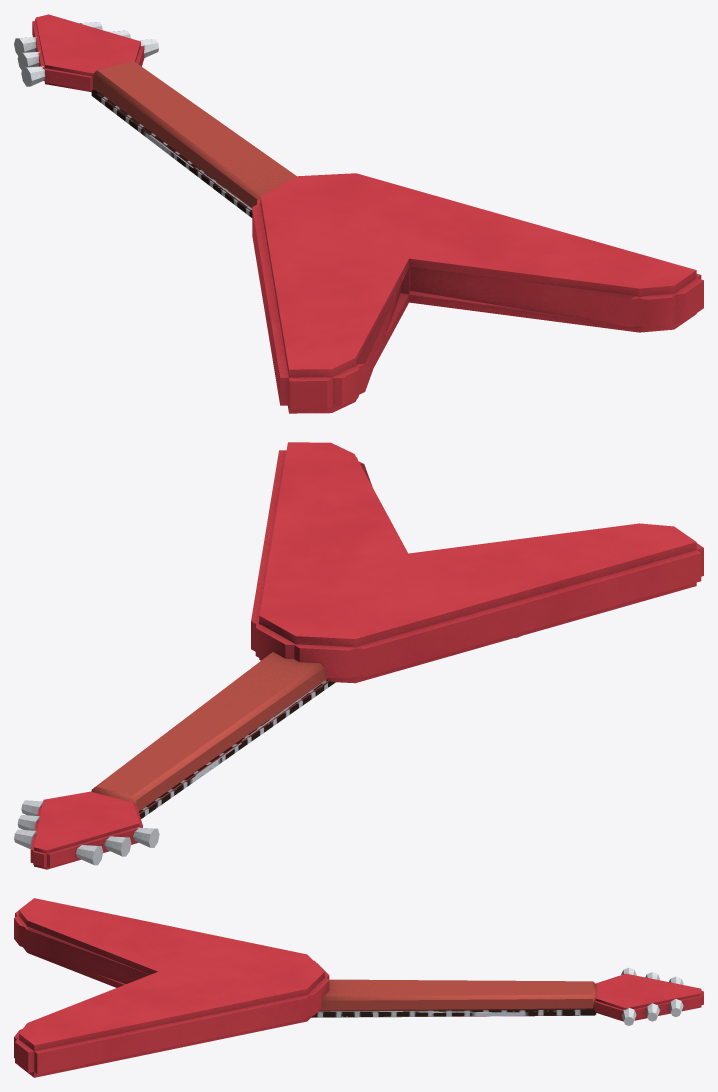
Rendered from Boomerang_71.fbx.
The picture shows the model from 3 angles, top to bottom: view 1: azimuth 30°, elevation 25°; view 2: azimuth 150°, elevation 25°; view 3: azimuth 270°, elevation 25°; orthographic projection. The views are drawn at different scales.
Visible parts, largest first — view 1: Boomerang_71; view 2: Boomerang_71; view 3: Boomerang_71.
Part boxes in pixels (<box>): Boomerang_71: <box>14,14,703,413</box>; Boomerang_71: <box>14,442,703,869</box>; Boomerang_71: <box>14,898,703,1077</box>.
Bounding box in the file's own units: 105 × 14.05 × 202.
Materials: 1 (1 with a texture image).
